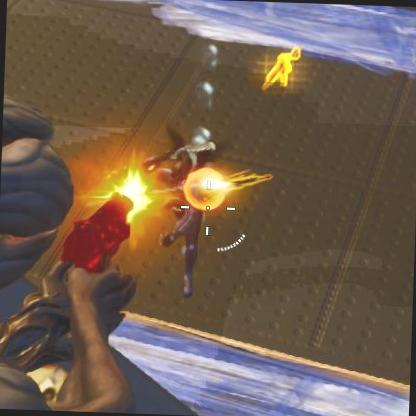person: (157, 135, 216, 300), (163, 204, 204, 300)
